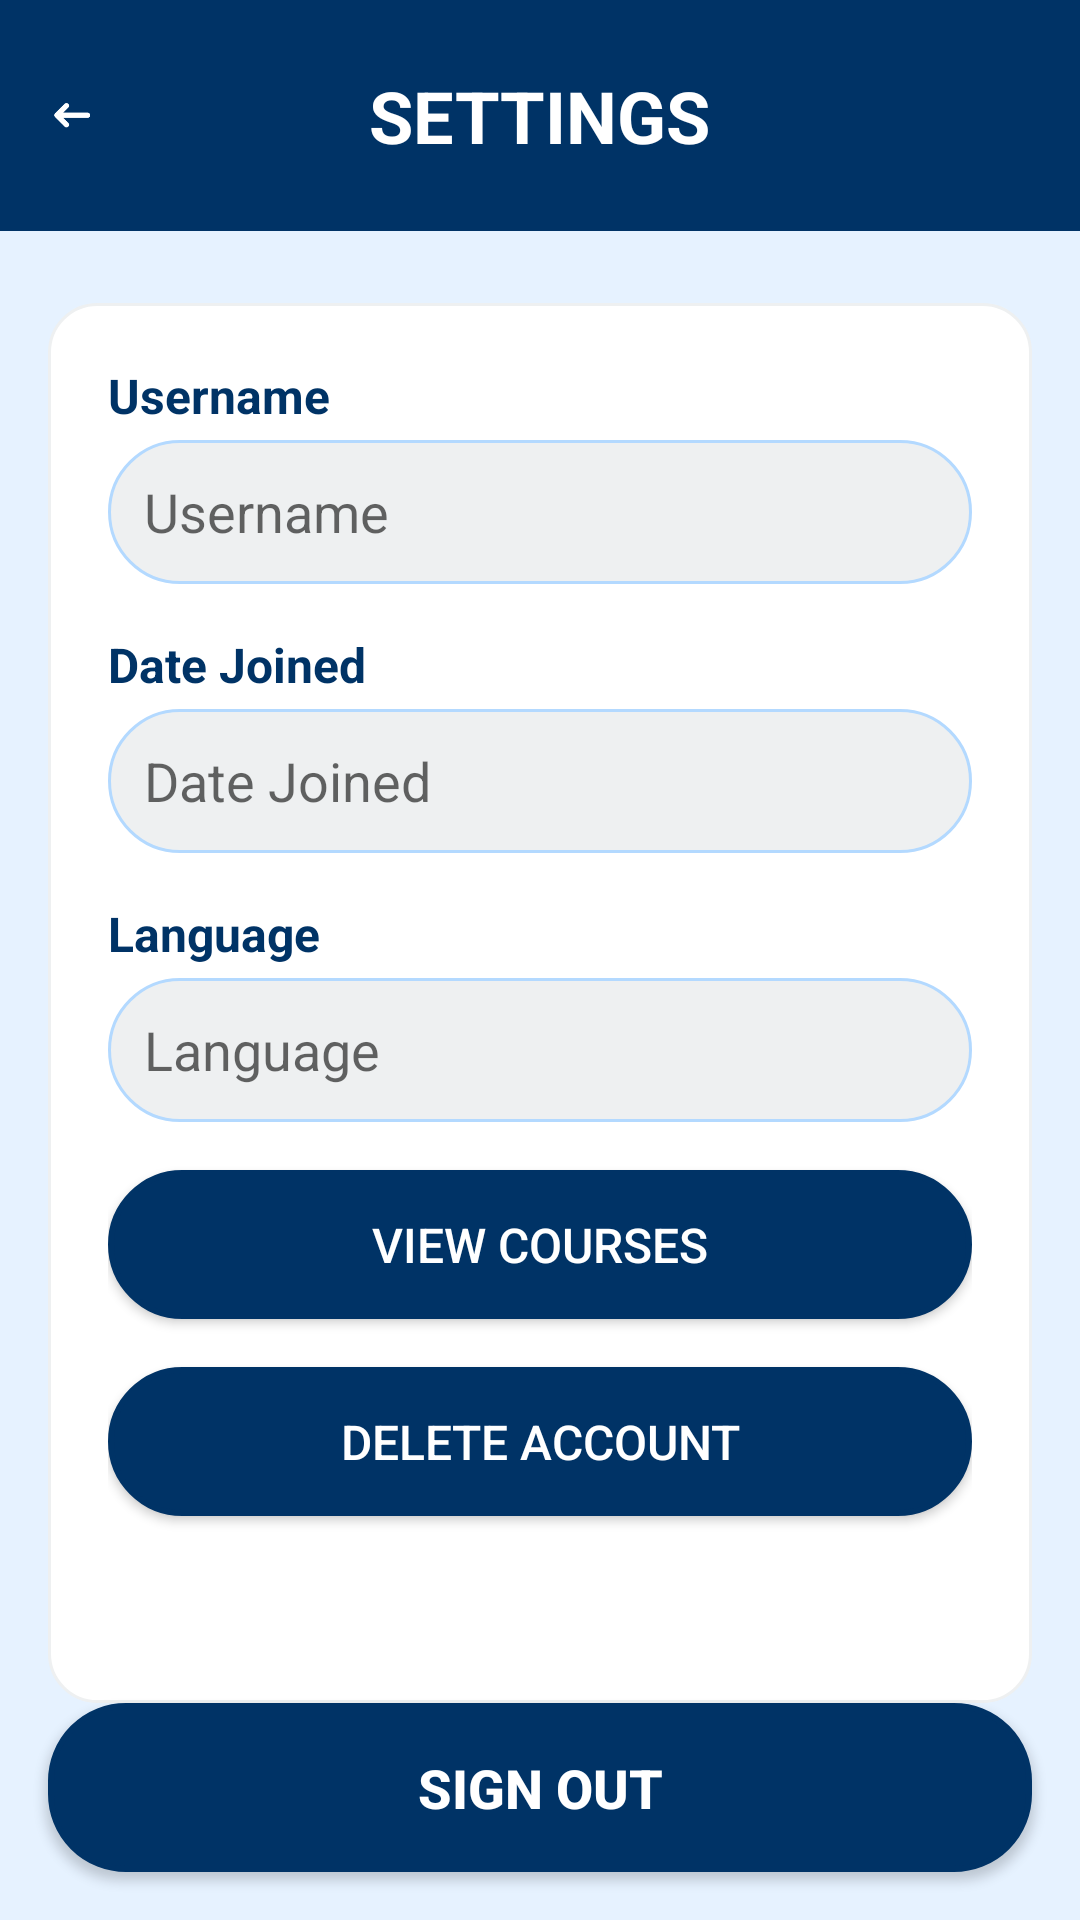

Named icons in this screenshot (1080x1920) and their bounding boxes, [x1, y1, x2, y2]:
Back: [54, 103, 90, 128]
